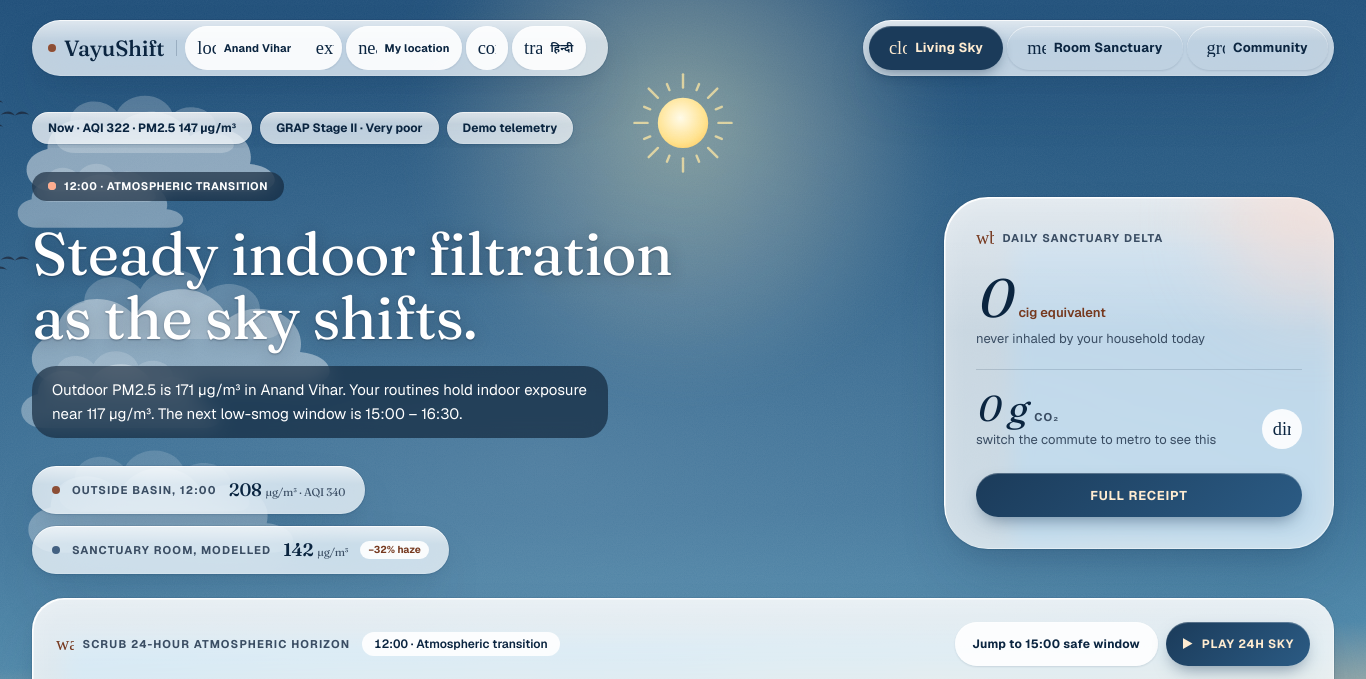
Scenario: city picker › shows where live data came from and when, in Indian time
This screenshot has width=1366, height=679.
expect the text "Source:" is not shown: met
Select "Kolkata" in the dropdown named "City". click: (266, 48)
box: [224,40,308,56]
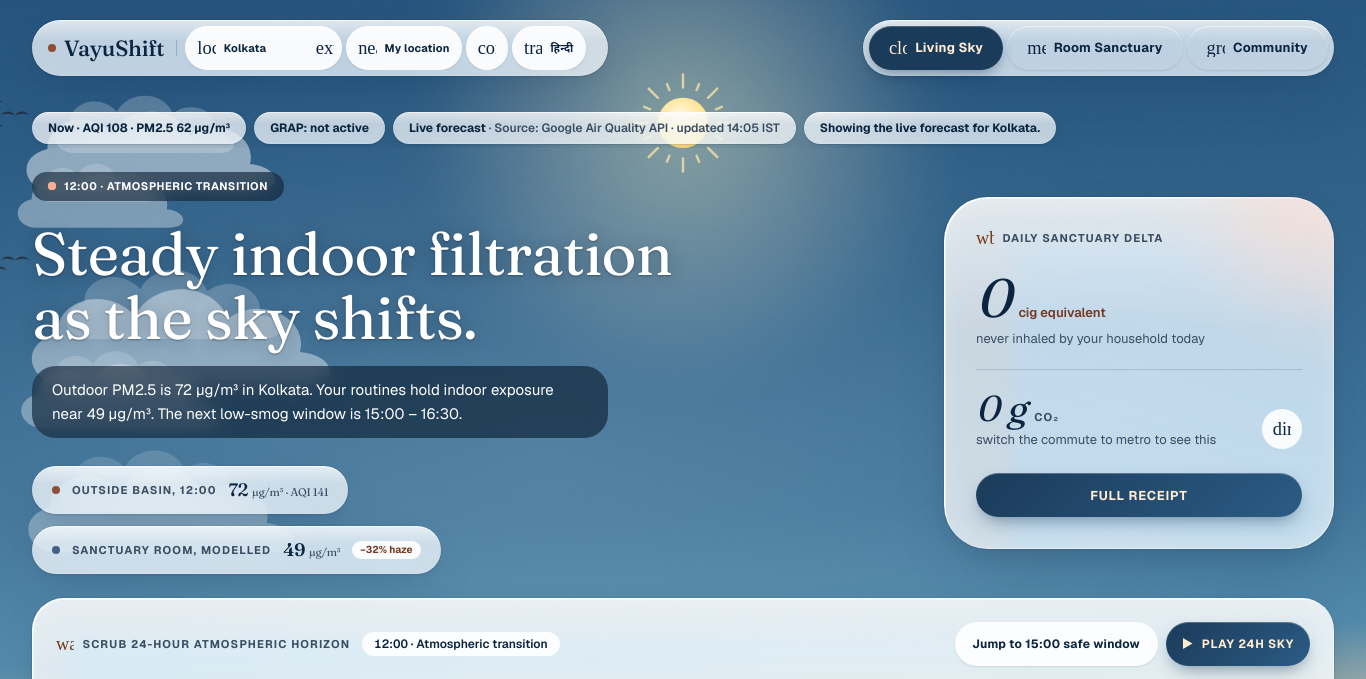
expect the text "· Source: Google Air Quality API · updated 14:05 IST" is shown: met, box [486,120,780,136]
